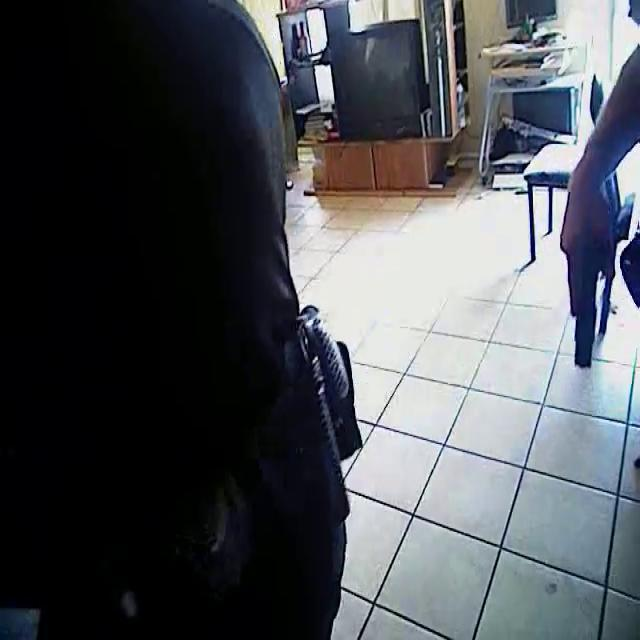gun: (533, 211, 623, 385)
